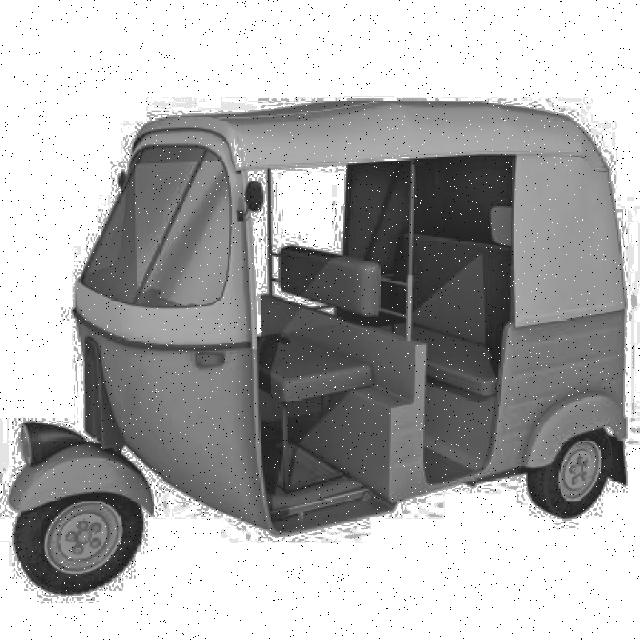Auto-Rickshaw: (20, 99, 632, 606)
